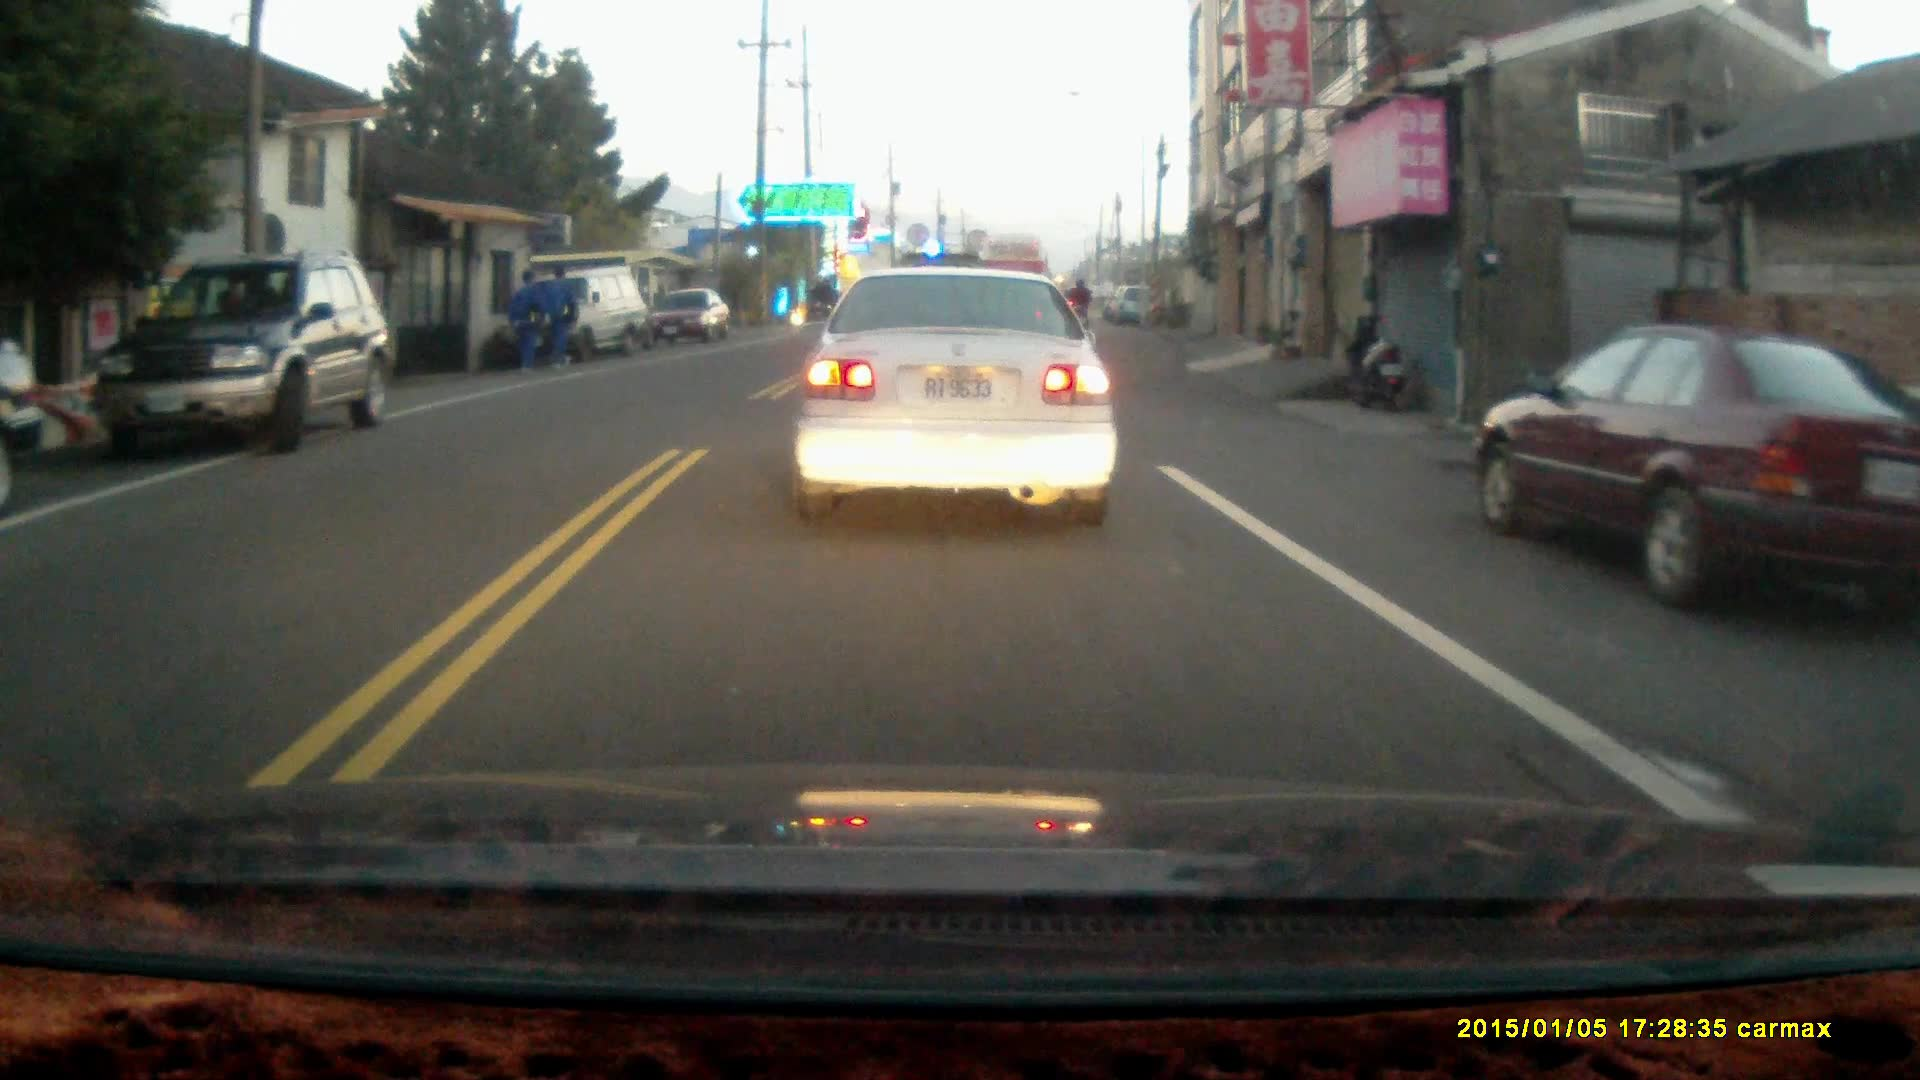pedestrian: (506, 270, 543, 382), (544, 262, 577, 374)
vehicle: (1481, 328, 1917, 617), (791, 268, 1120, 538), (96, 253, 390, 456), (527, 269, 661, 361), (1, 335, 49, 506), (641, 289, 733, 353)
